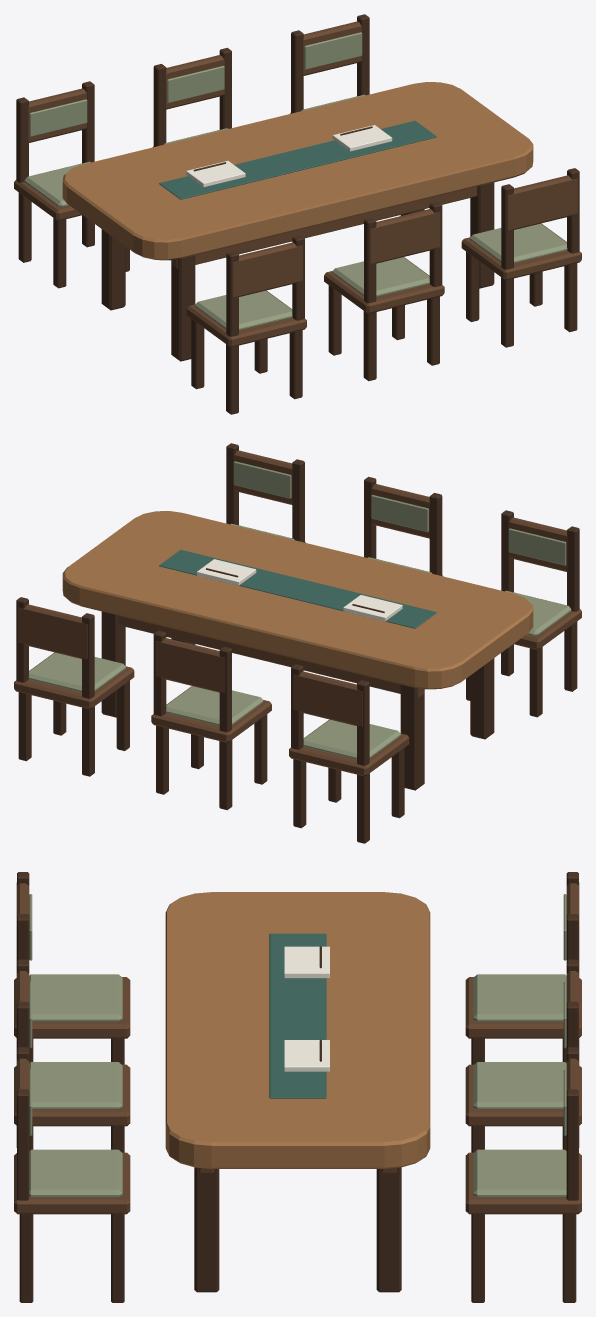
File: SU_03_Meeting_Set.fbx
The picture shows the model from 3 angles, top to bottom: view 1: azimuth 30°, elevation 25°; view 2: azimuth 150°, elevation 25°; view 3: azimuth 270°, elevation 25°; orthographic projection. The views are drawn at different scales.
Visible parts, largest first — view 1: SU_03_Meeting_Set; view 2: SU_03_Meeting_Set; view 3: SU_03_Meeting_Set.
Boxes of the visible parts, box(x1,y1,x2,y2) form: SU_03_Meeting_Set: box(14, 14, 581, 414); SU_03_Meeting_Set: box(14, 443, 581, 843); SU_03_Meeting_Set: box(14, 872, 581, 1302).
Size of the model in its own units: 2.62 by 2.49 by 1.01.
